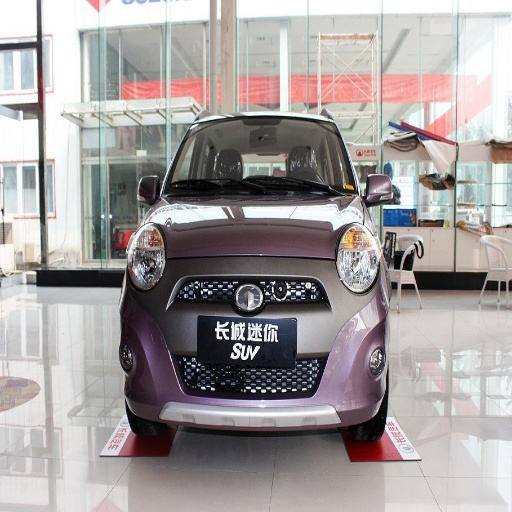front_bumper: (118, 258, 387, 434)
front_right_light: (127, 224, 165, 289)
hood: (153, 194, 362, 259)
